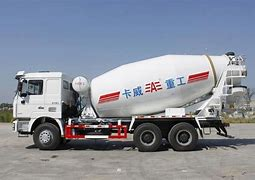specialcar: (13, 48, 245, 157)
